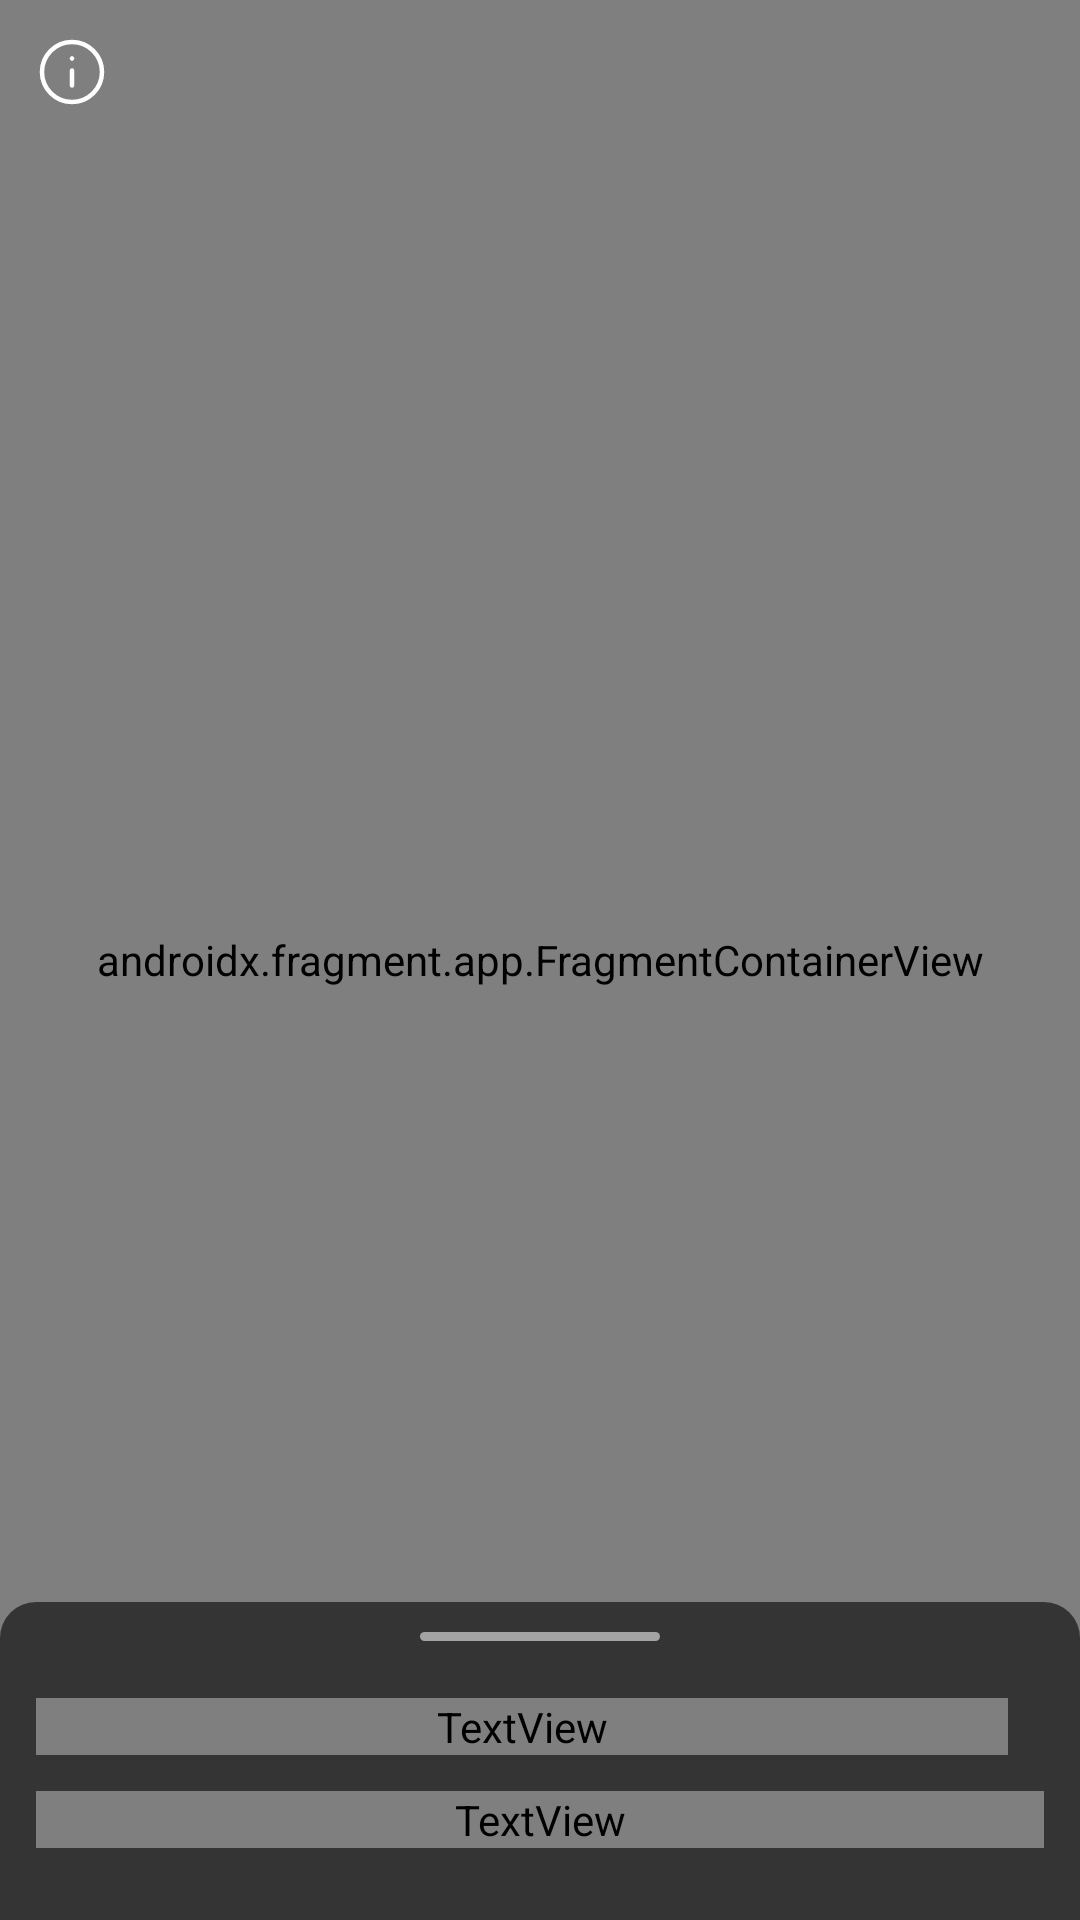

Where icons sit on this 1080*1920 app screen, as {"x1": x1, "y1": y1, "x2": x2, "y2": y2}:
Open on boarding: {"x1": 39, "y1": 39, "x2": 105, "y2": 105}
